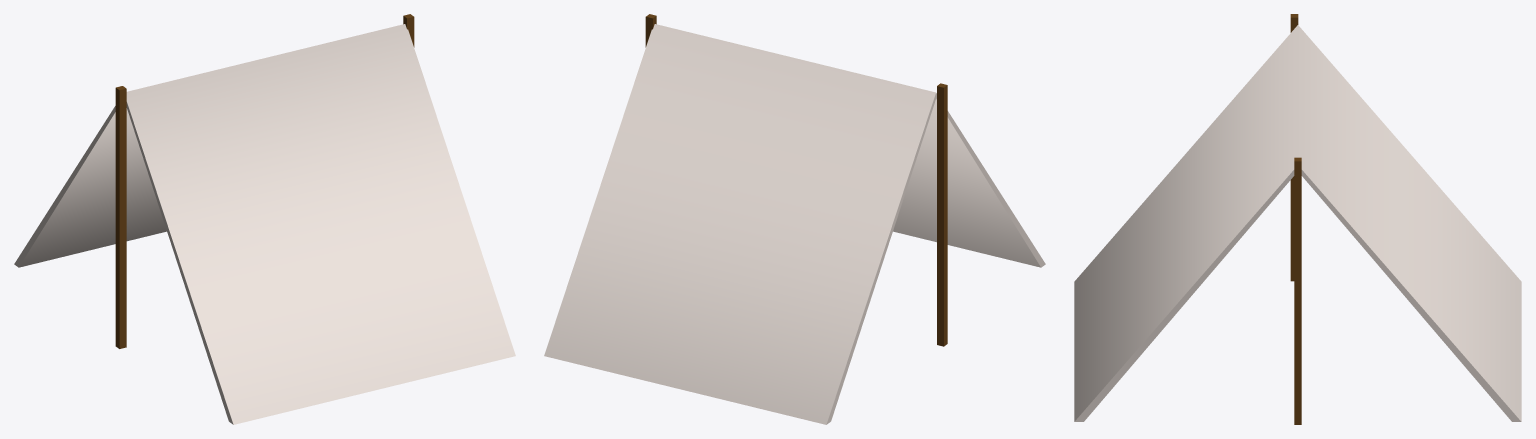
The model's file is Tent.fbx.
3 renders of one model, left to right at view 1: azimuth 30°, elevation 25°; view 2: azimuth 150°, elevation 25°; view 3: azimuth 270°, elevation 25°, orthographic.
Visible parts, largest first — view 1: Mesh; view 2: Mesh; view 3: Mesh.
Part boxes in pixels (x1,y1,x2,y2): Mesh: [14, 14, 515, 424]; Mesh: [544, 14, 1045, 424]; Mesh: [1074, 14, 1521, 424].
Size of the model in its own units: 94.86 by 79.18 by 122.
